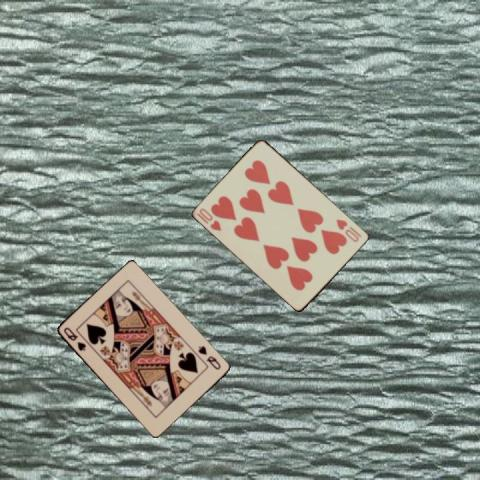10h: (194, 205, 223, 233), (334, 216, 364, 243)
Qs: (60, 324, 87, 353), (195, 343, 222, 371)
